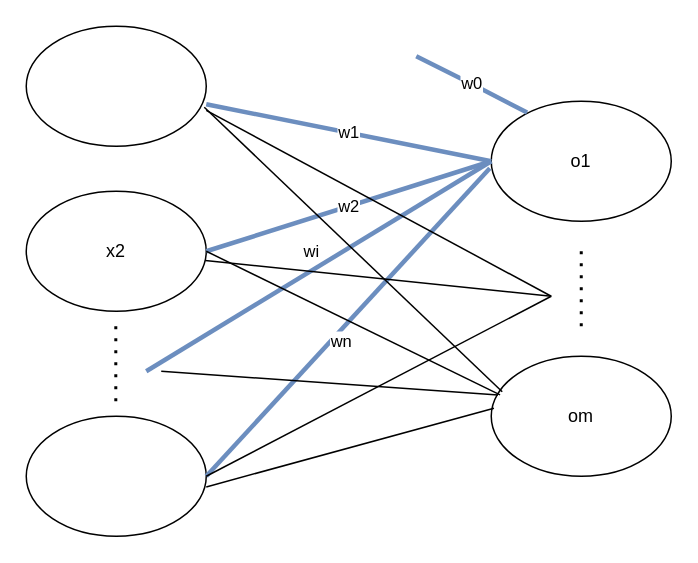
This 698x563 diagram has some shape labels left out. Here are the shapes that lost their labels. From the top down, the centre of each, then its label:
point (115, 85): x1
point (115, 475): xn
